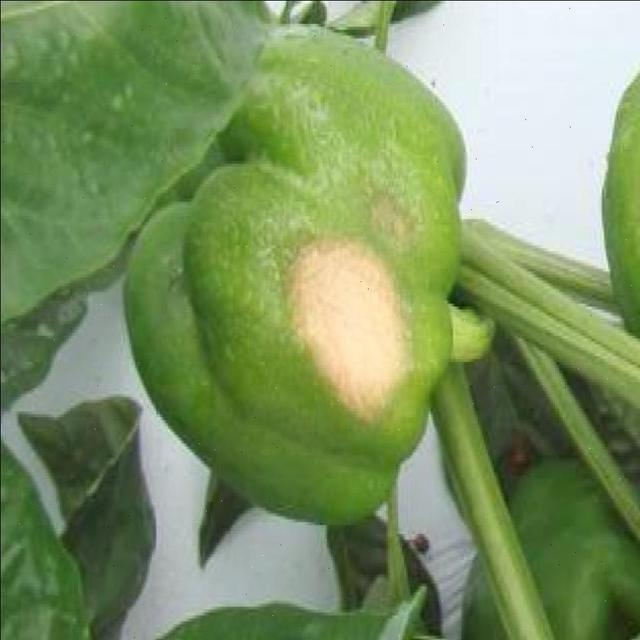Sunscald Fruit: (193, 128, 281, 293)
